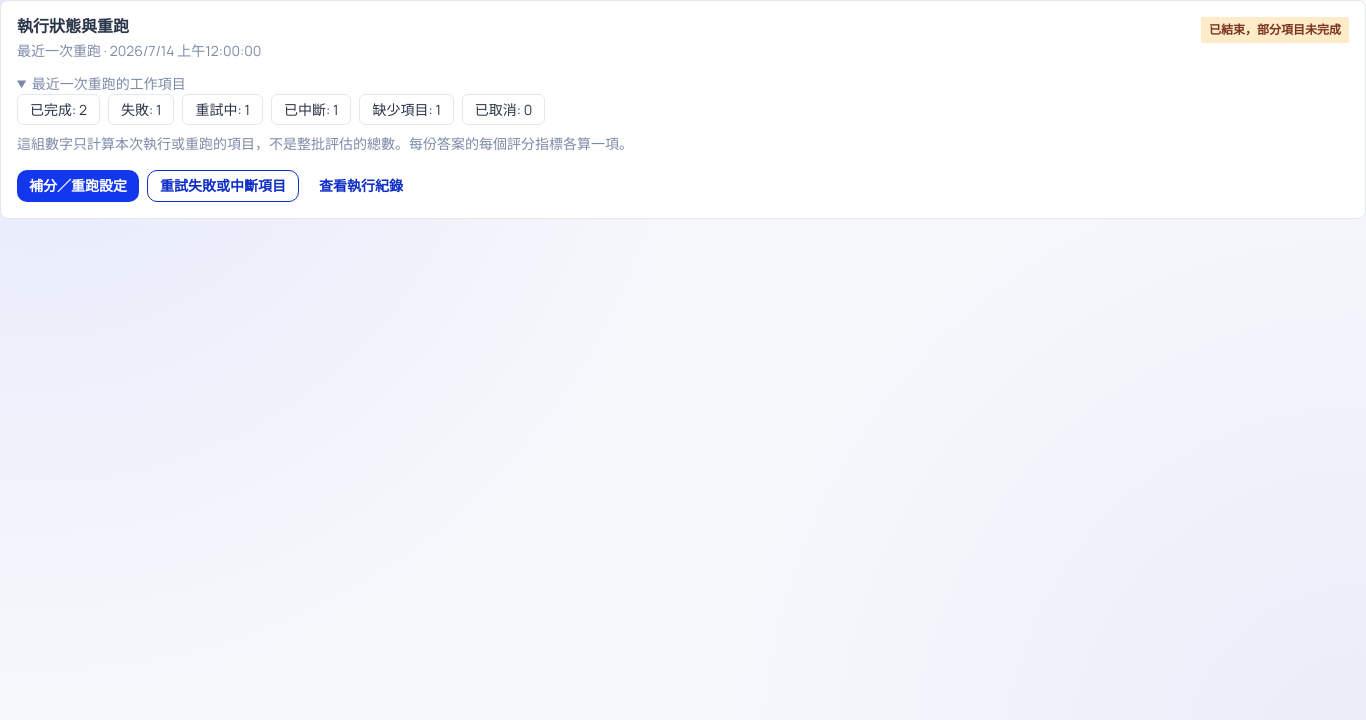
Test: EvaluationJobPanel › shows warning status, durable counts, safe attempt history, and rerun actions
This screenshot has width=1366, height=720.
Check: the text "已結束，部分項目未完成" is shown, box [1201, 17, 1349, 43]
Check: the text "已完成: 2" is shown, box [17, 94, 100, 125]
Click the button "補分／重跑設定".
click(78, 186)  # box [17, 170, 139, 202]
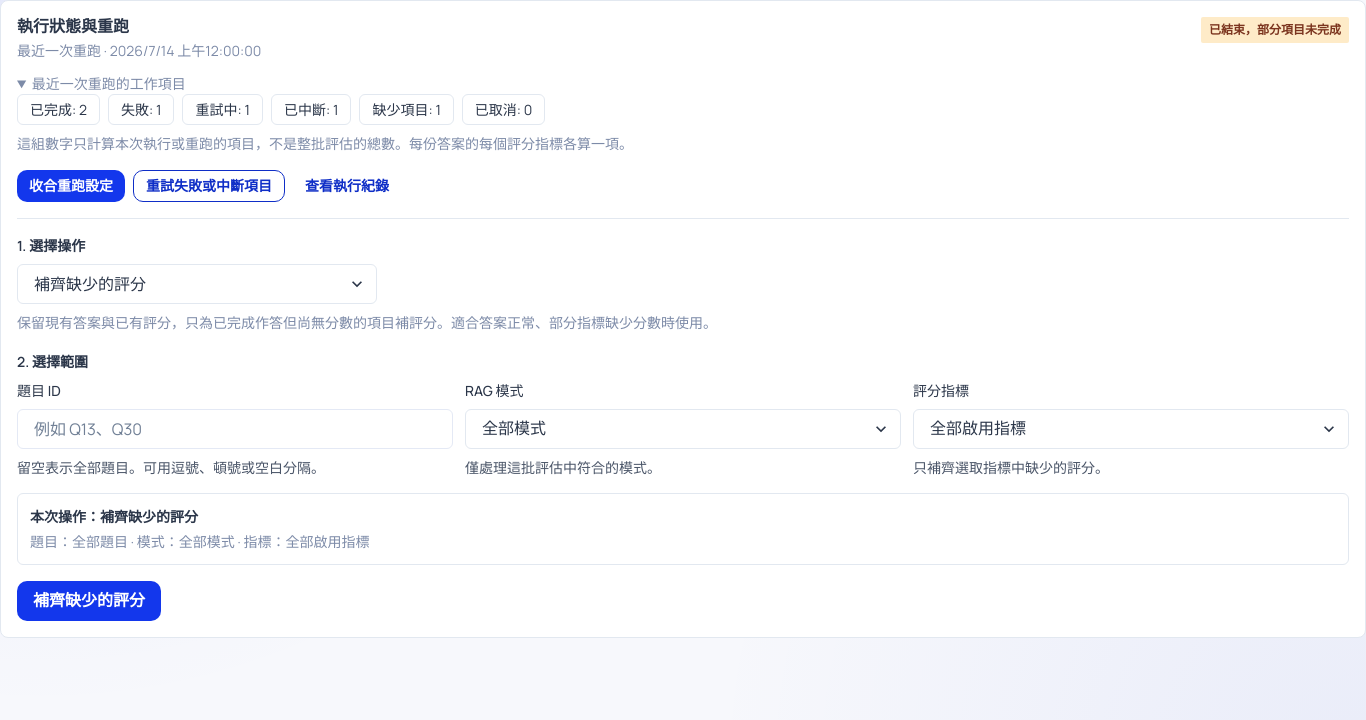
Select "重新評分（保留答案）" in the dropdown named "重跑方式" at coordinates (197, 284), box [17, 264, 377, 304]
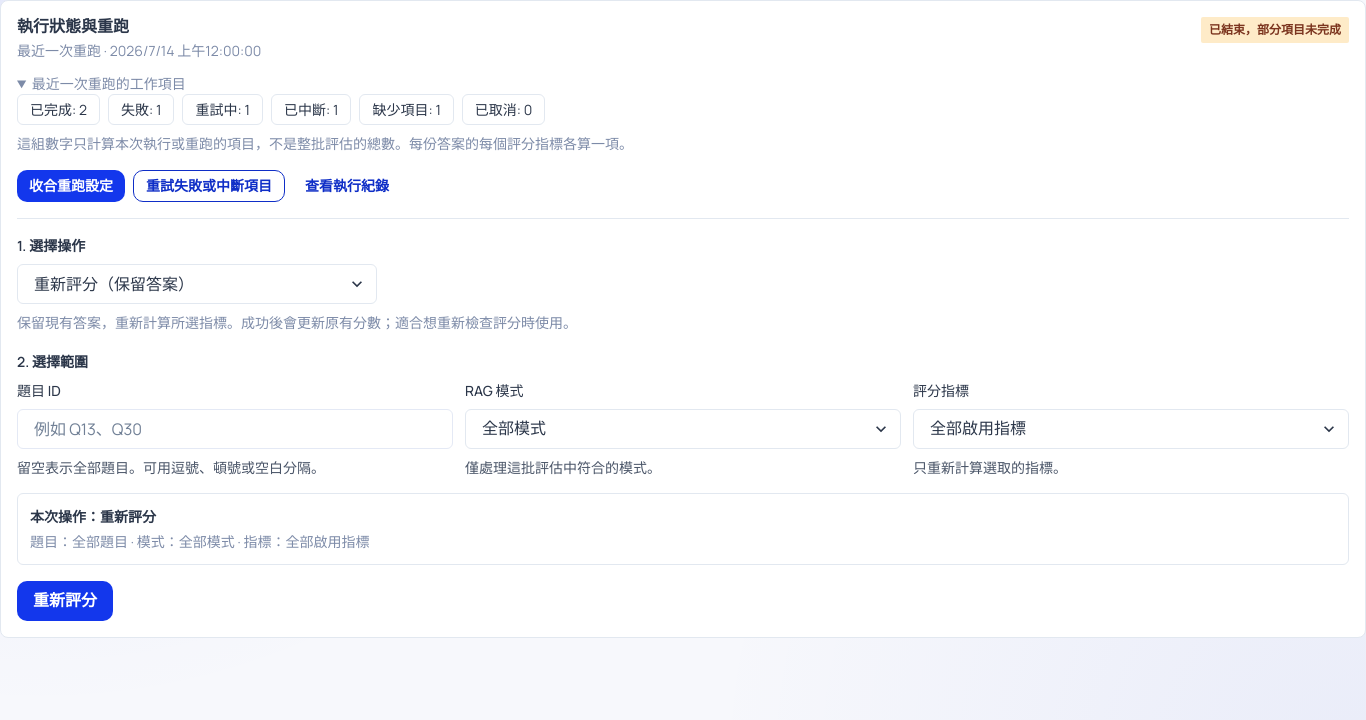
Click the button "重新評分".
click(65, 601)  # box [17, 581, 113, 621]
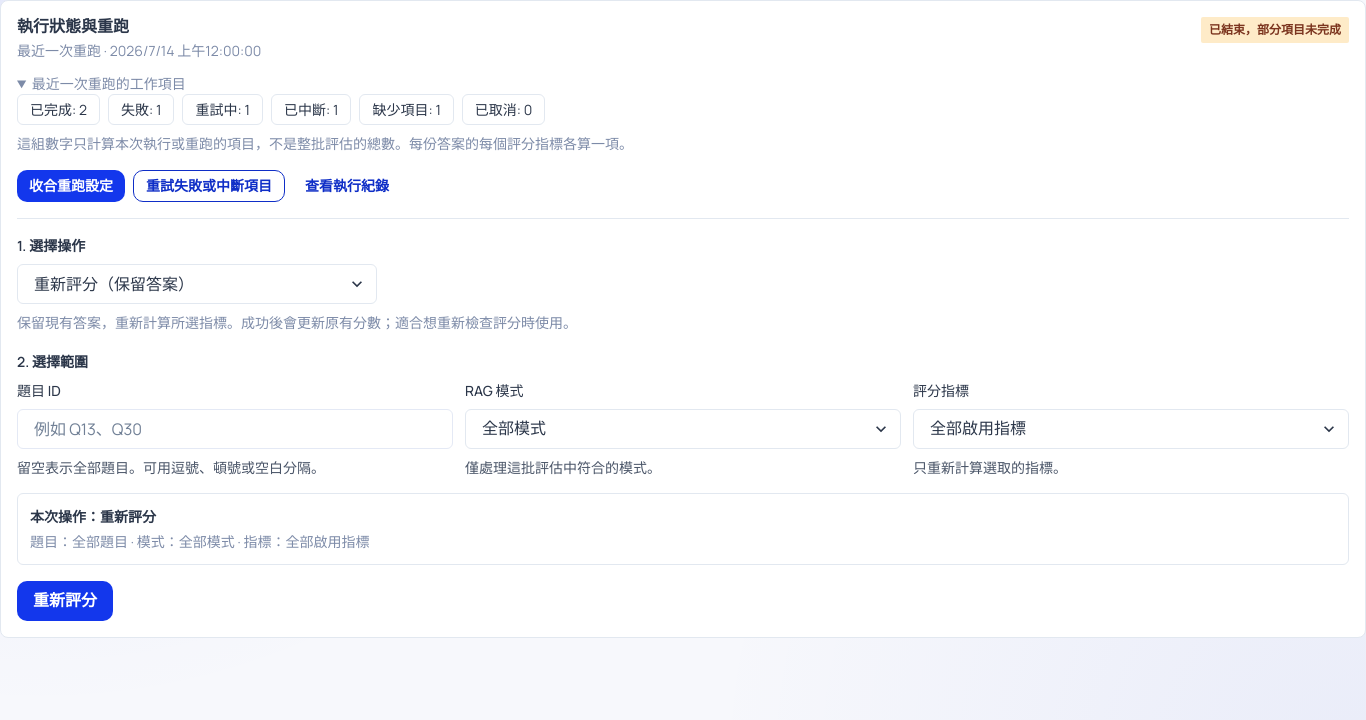
Click the button "重試失敗或中斷項目".
click(209, 186)  # box [133, 170, 285, 202]
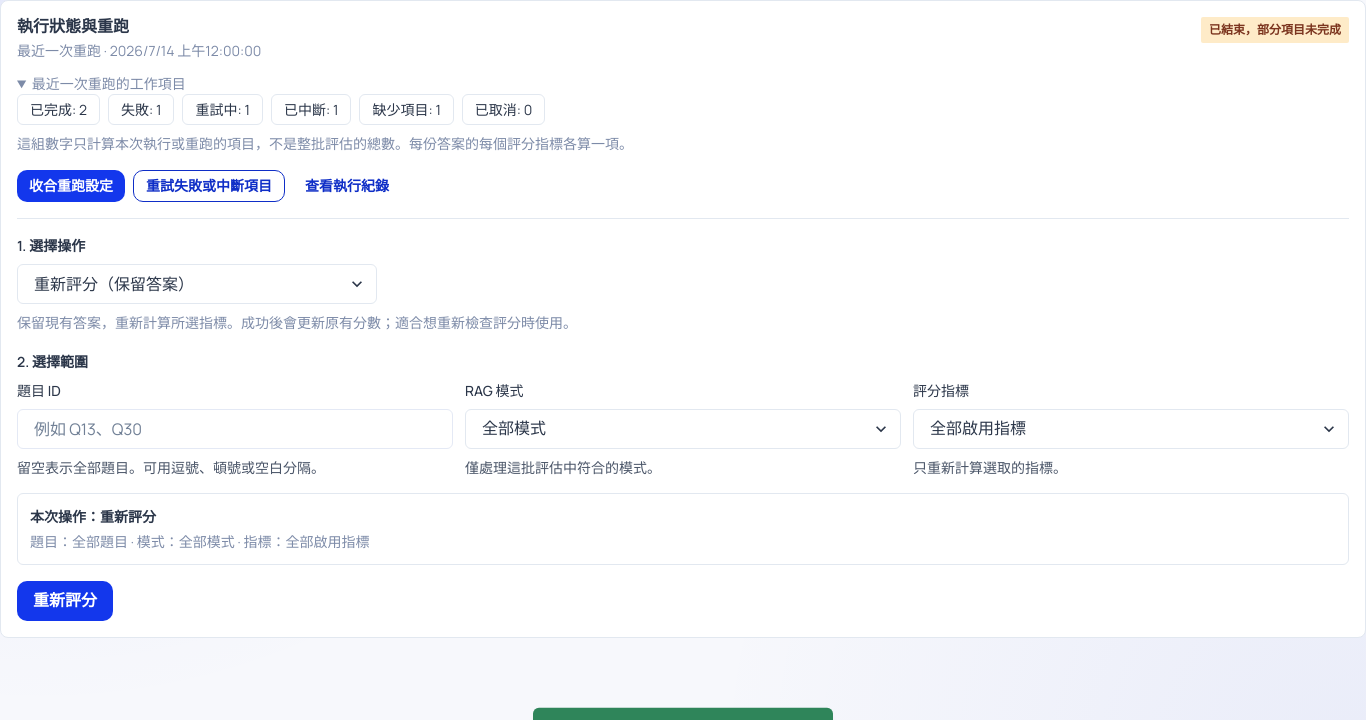
Click the button "查看執行紀錄".
click(347, 186)  # box [293, 170, 401, 202]
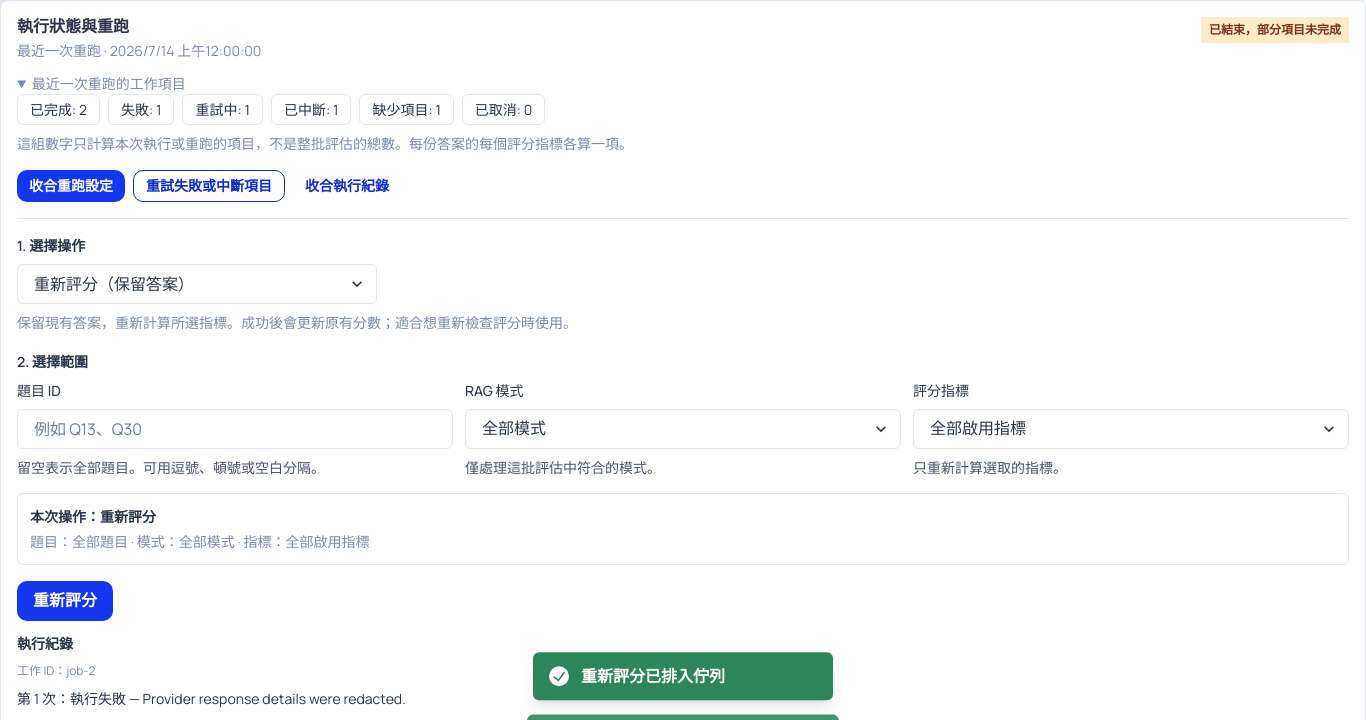
Check: the text "第 1 次：執行失敗 — Provider response details were redacted." is shown, box [17, 689, 406, 708]
Click the button "收合執行紀錄".
click(347, 186)  # box [293, 170, 401, 202]
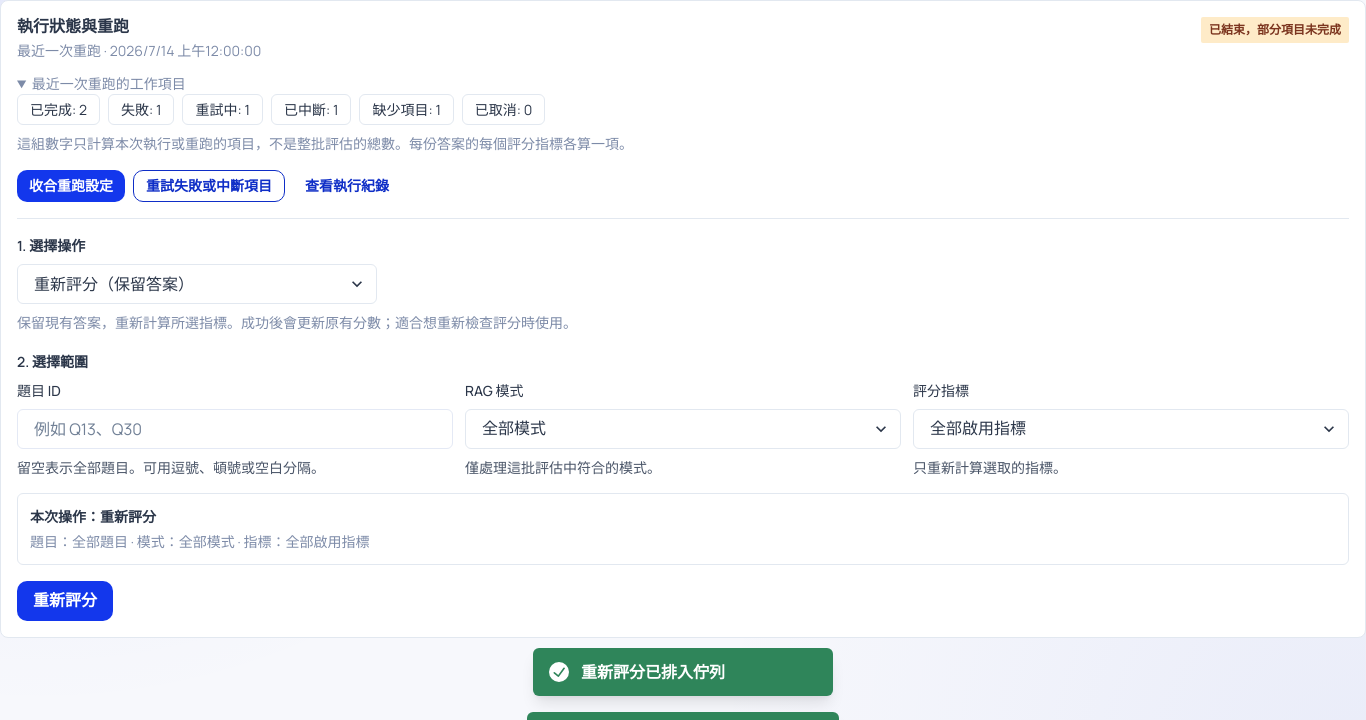
Check: the text "工作 ID：" is gone
